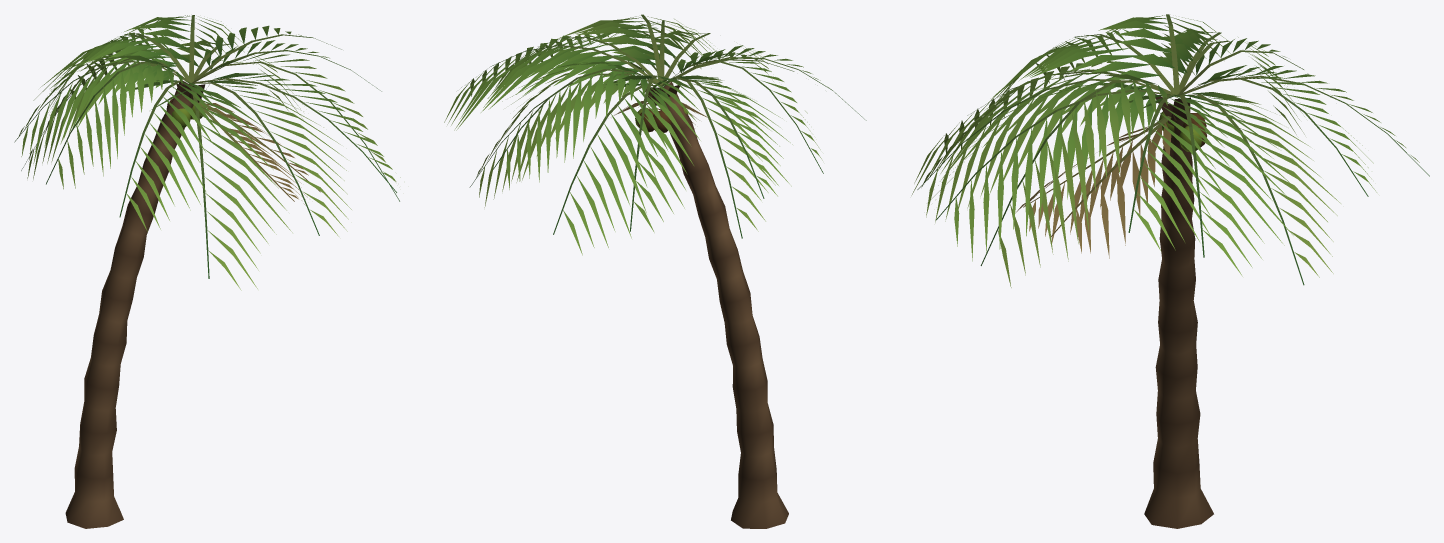
File: palma_3.glb
3 views of the same model, side by side, from view 1: azimuth 30°, elevation 25°; view 2: azimuth 150°, elevation 25°; view 3: azimuth 270°, elevation 25° (orthographic). The views are drawn at different scales.
Parts seen in each view (by area): view 1: zaklad; view 2: zaklad; view 3: zaklad.
Boxes of the visible parts, x1,y1,x2,y2 form: zaklad: (14,15,400,528); zaklad: (444,14,866,528); zaklad: (911,14,1429,528).
Size of the model in its own units: 7.26 by 8.78 by 8.03.
